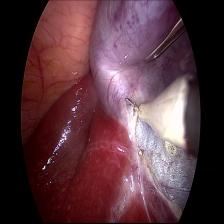Grasper: (141, 14, 190, 64)
Hook: (124, 78, 188, 154)
